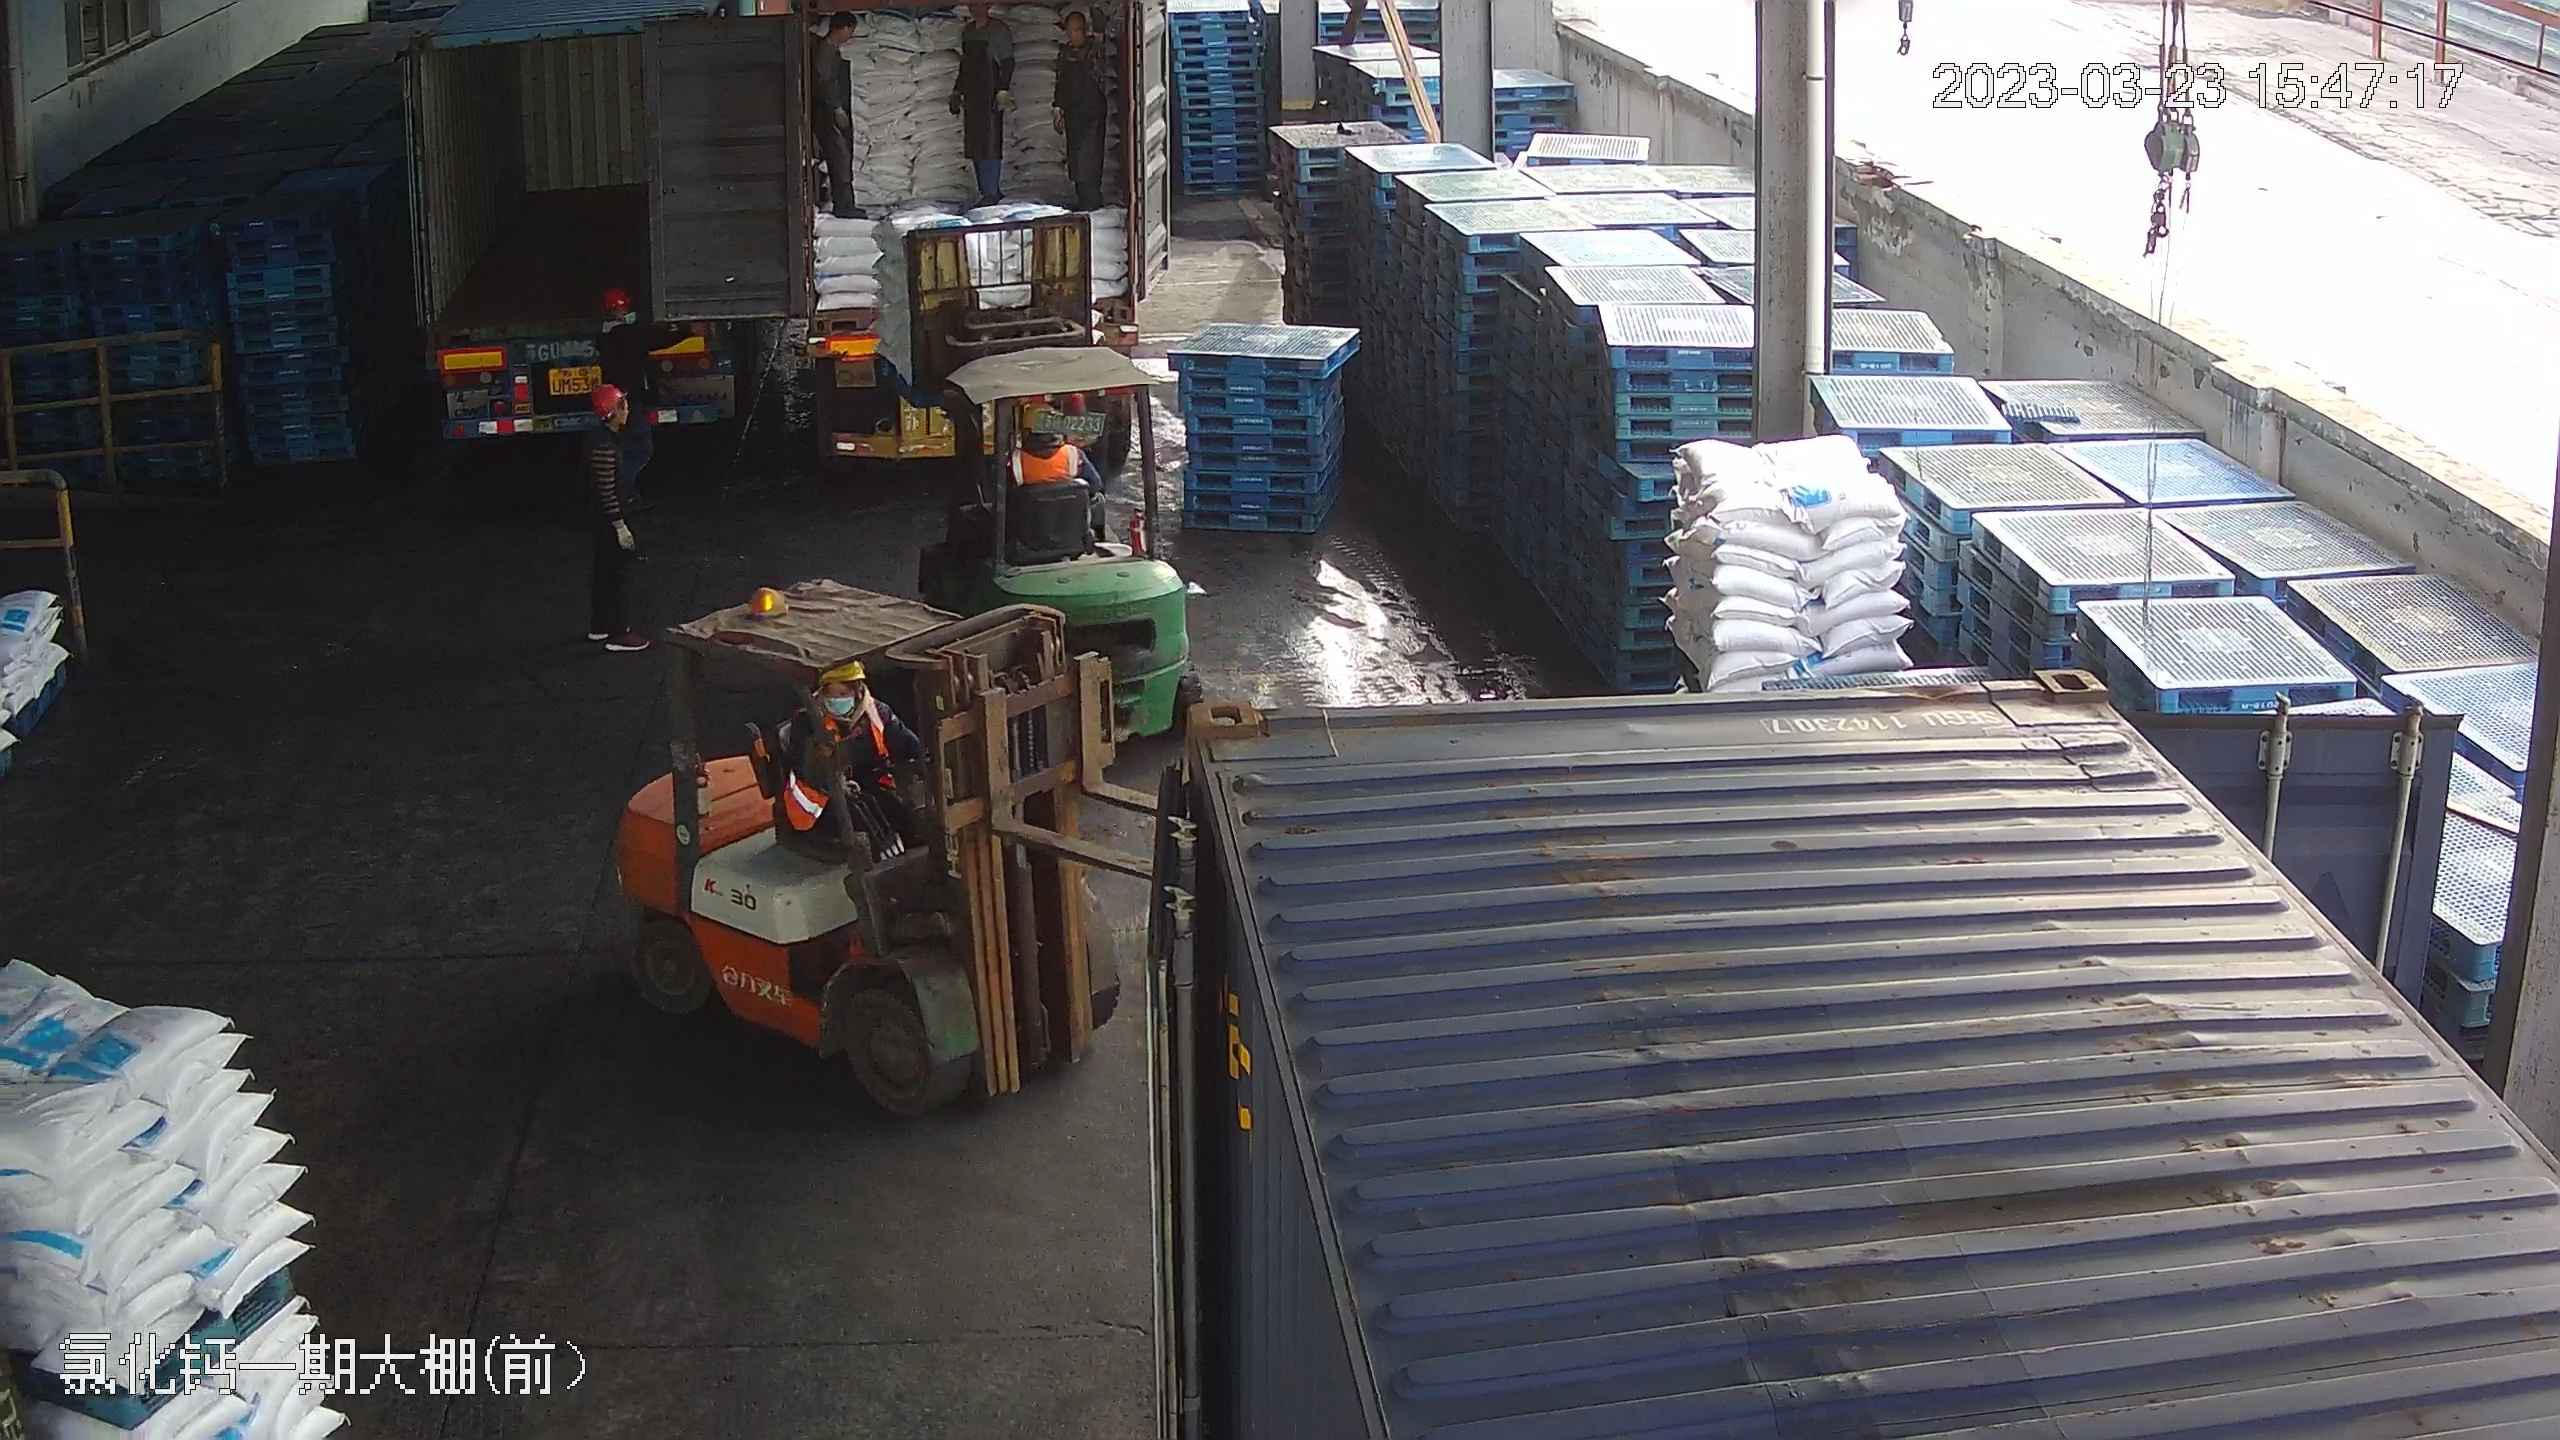head: (580, 376, 641, 463), (590, 283, 647, 347), (1052, 10, 1102, 71), (817, 11, 859, 74)
helmet: (590, 377, 626, 411), (601, 284, 631, 307)
people: (575, 368, 650, 655), (945, 2, 1012, 203), (813, 7, 873, 223), (1053, 5, 1109, 198)
truck: (1201, 157, 2529, 1440), (396, 4, 820, 463)
